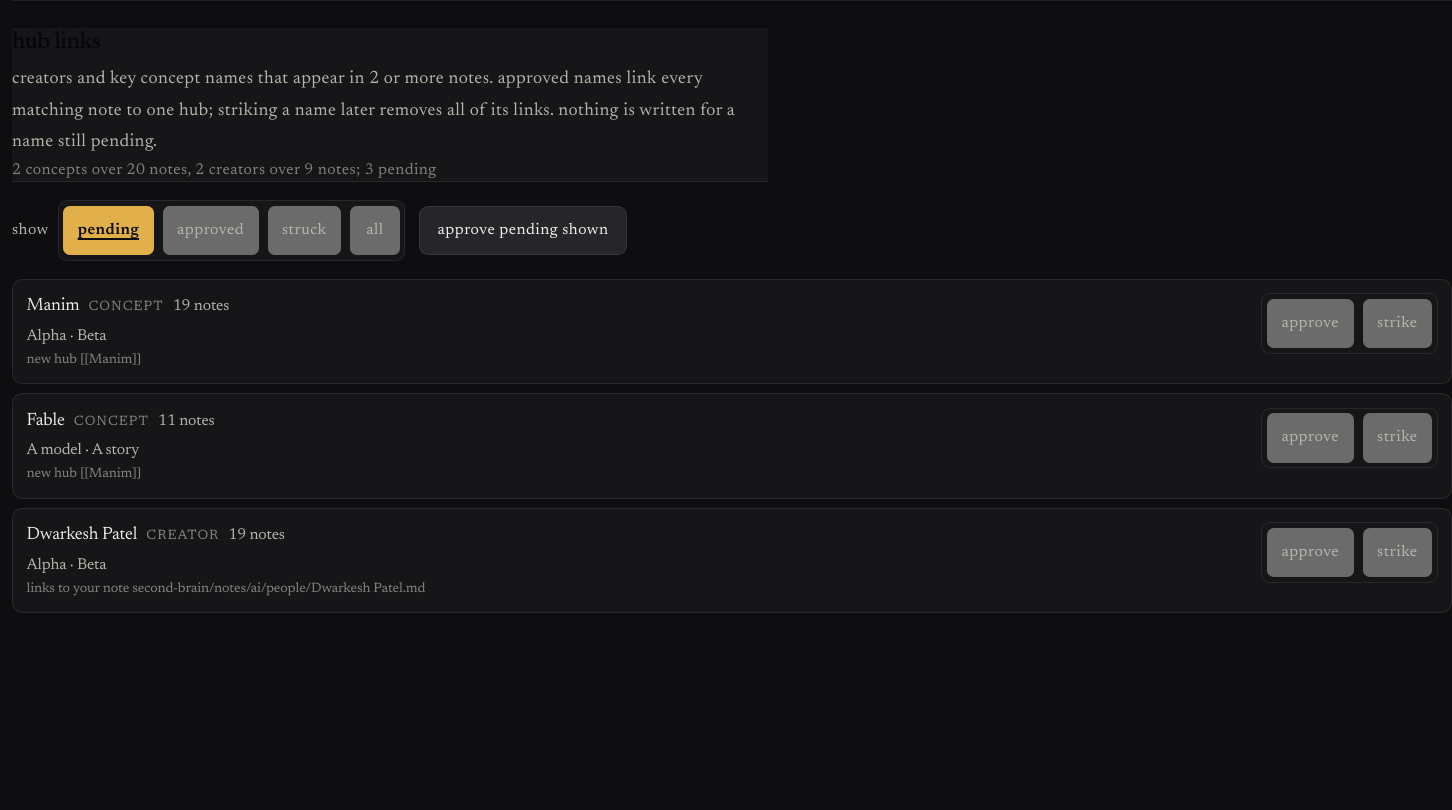
Scenario: an approved name can be struck later from the approved view
Click the radio button labelled "approved" at (211, 231), box [163, 206, 258, 255]
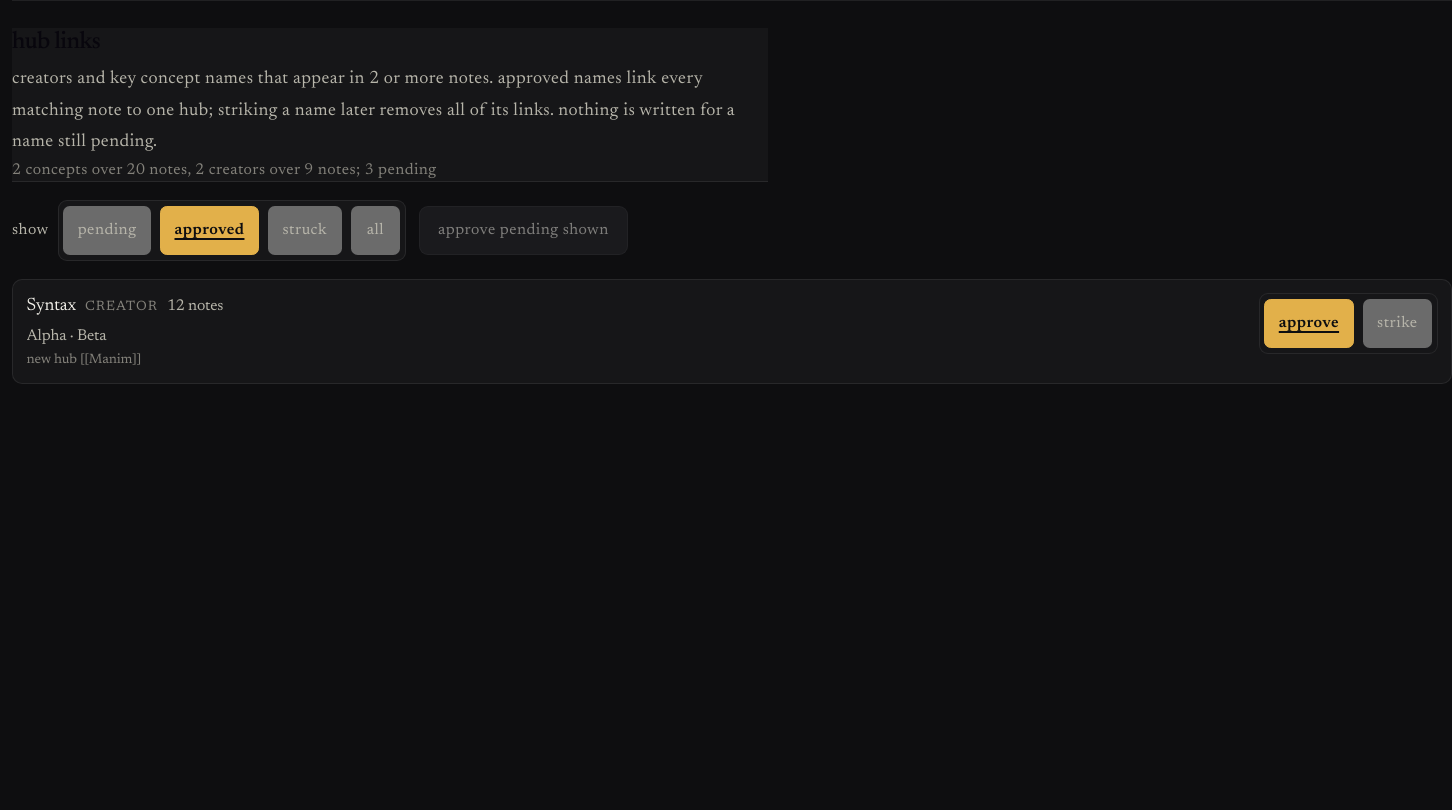
Result: the radio button labelled "approve" is checked at [1264, 299, 1354, 348]
Click the radio button labelled "strike" at (1397, 324), box [1363, 299, 1432, 348]
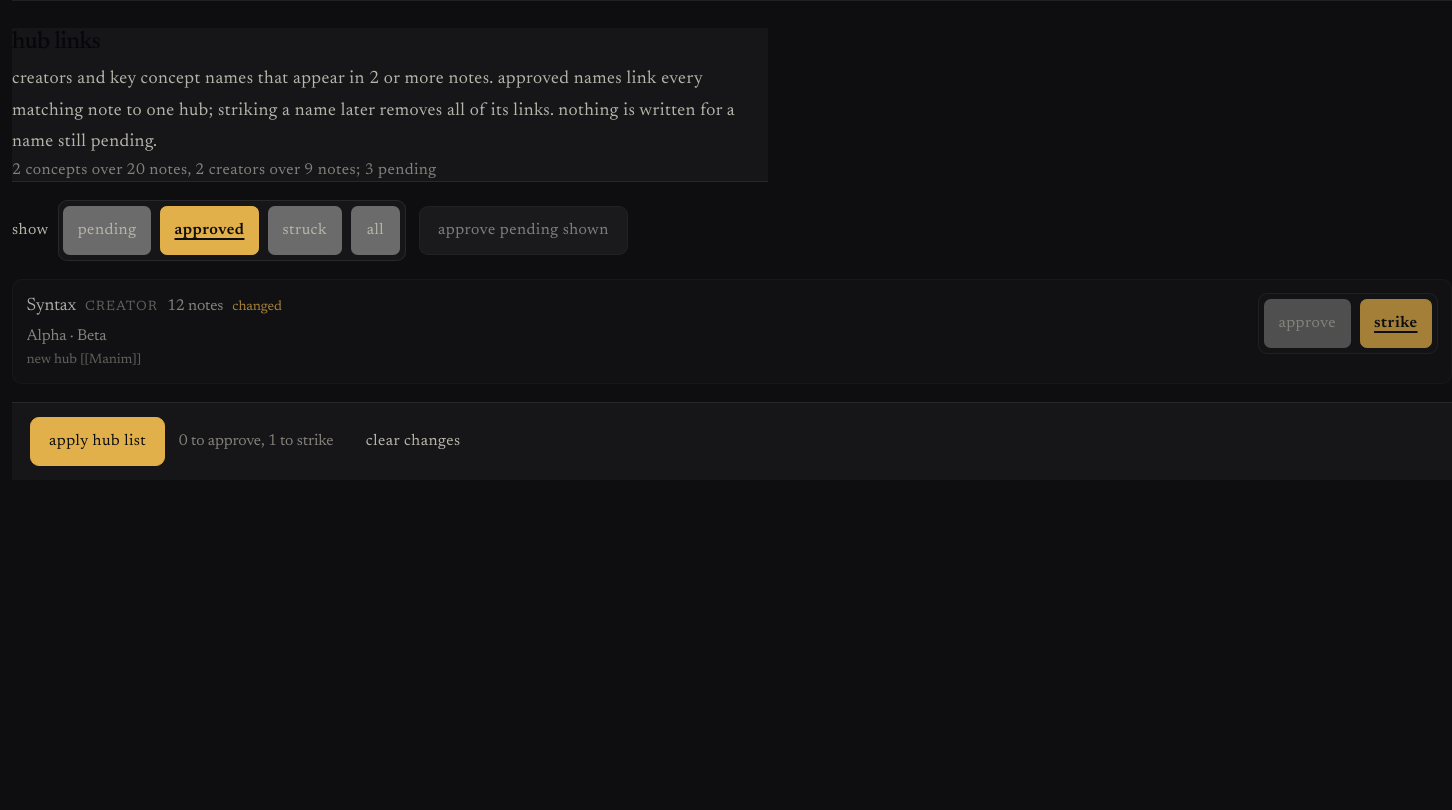
Result: the text "0 to approve, 1 to strike" is shown at [179, 430, 333, 453]
